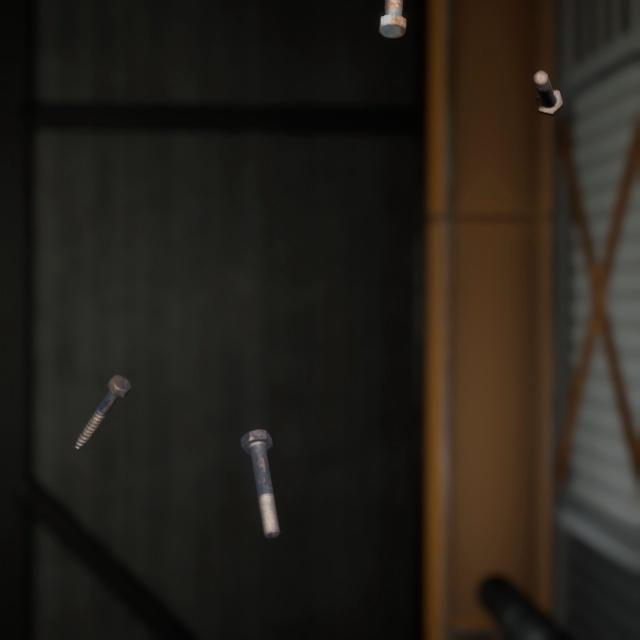bolt: (236, 403, 284, 520), (70, 350, 136, 433), (529, 54, 567, 109), (374, 0, 411, 39)
